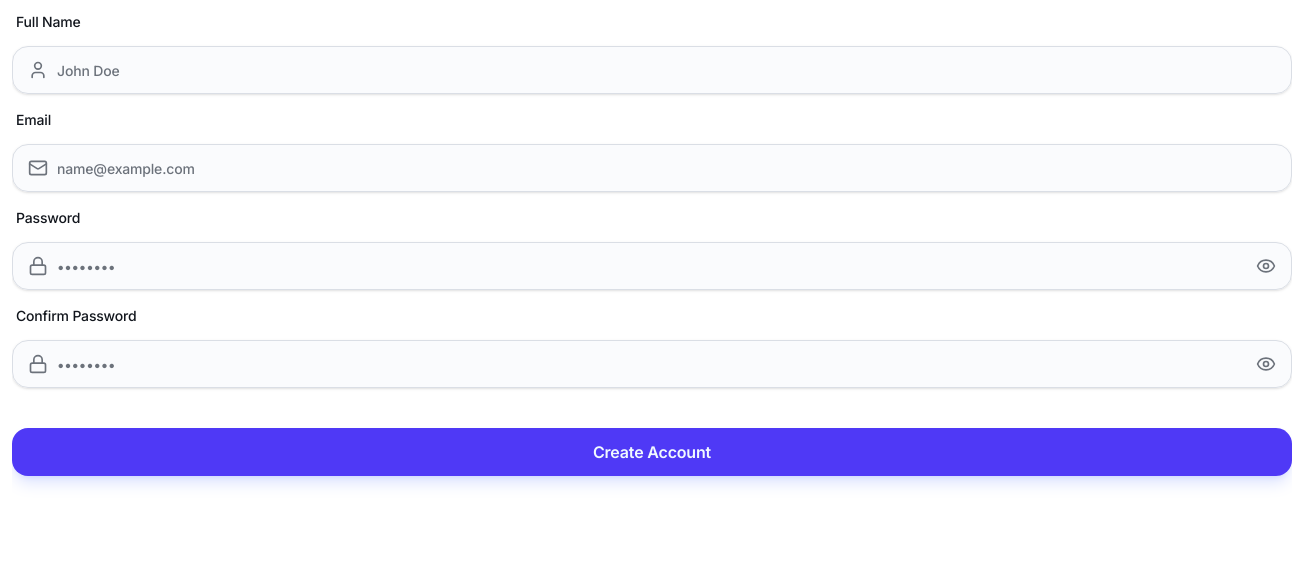
it: SignupForm Component › shows error when passwords do not match
Type "password123" into the 1st password field with placeholder "••••••••".
click(652, 266); type("password123")  # box top-left (12, 242), bottom-right (1292, 290)
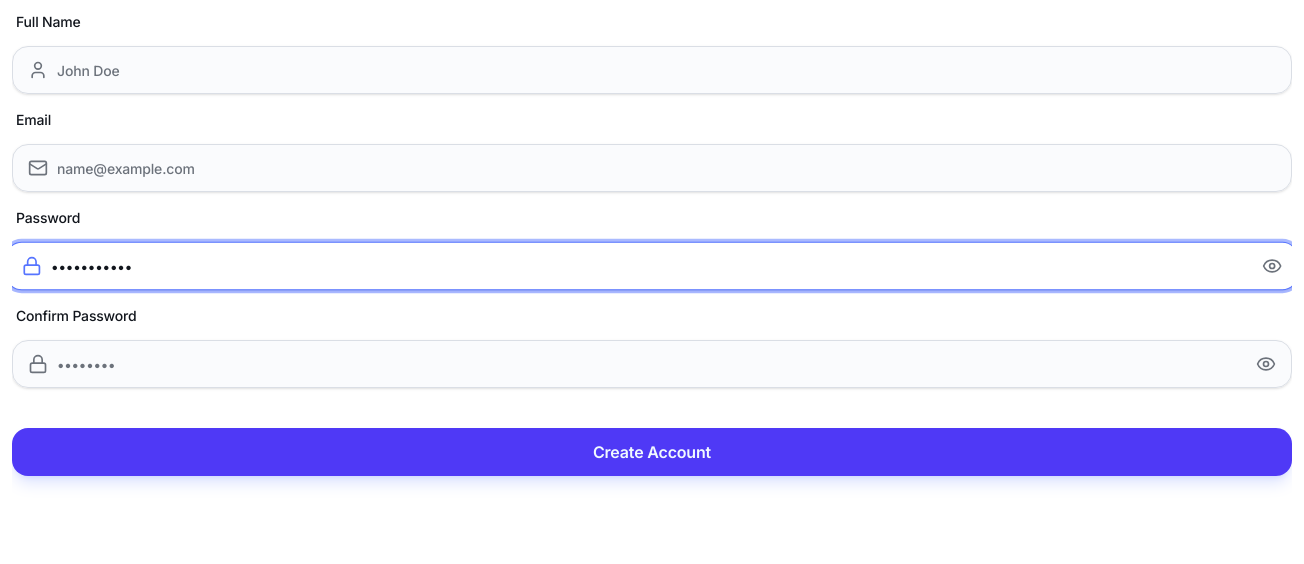
Type "differentPassword" into the password field with placeholder "••••••••".
click(652, 364); type("differentPassword")  # box top-left (12, 340), bottom-right (1292, 388)
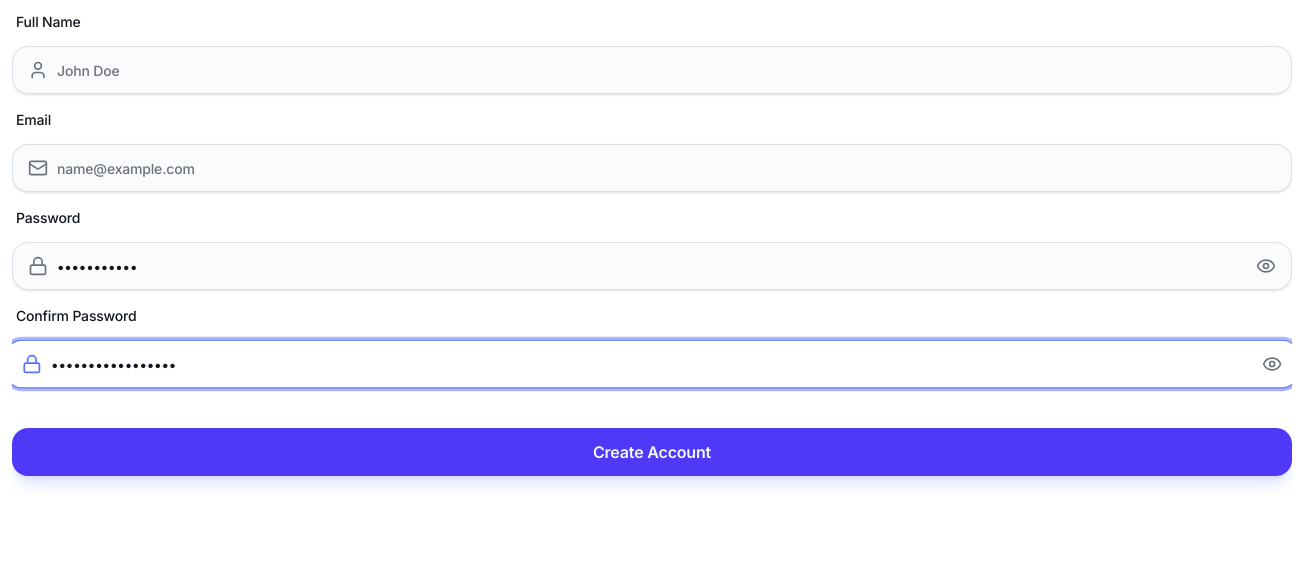
Click the button "Create Account".
click(652, 452)  # box top-left (12, 428), bottom-right (1292, 476)
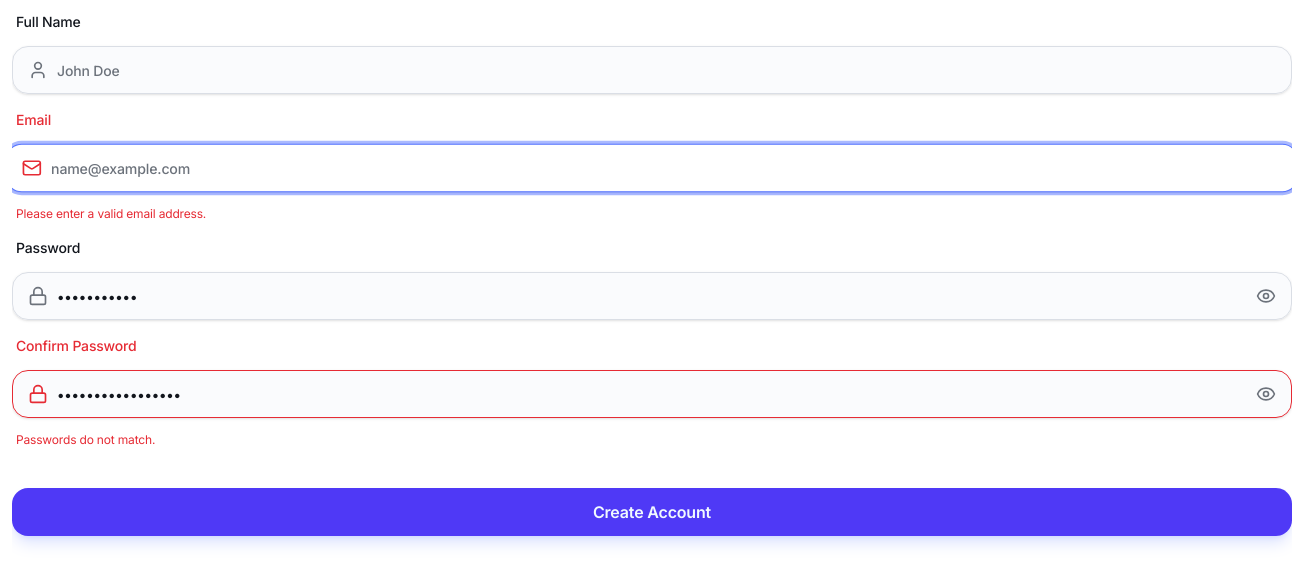
Check: the text "Passwords do not match." is shown, box top-left (16, 432), bottom-right (155, 447)
